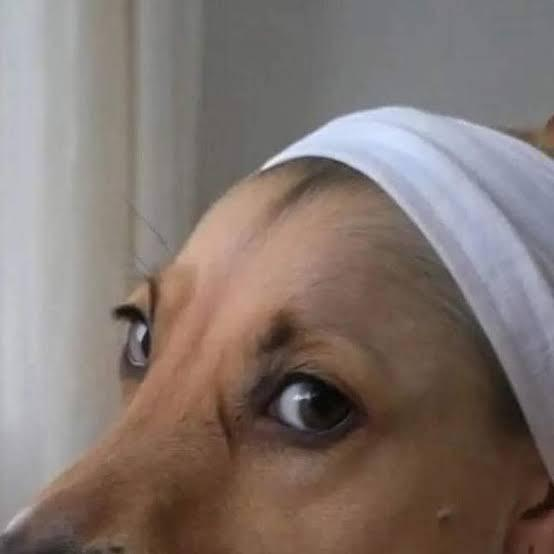adult_dog: (4, 110, 554, 554)
